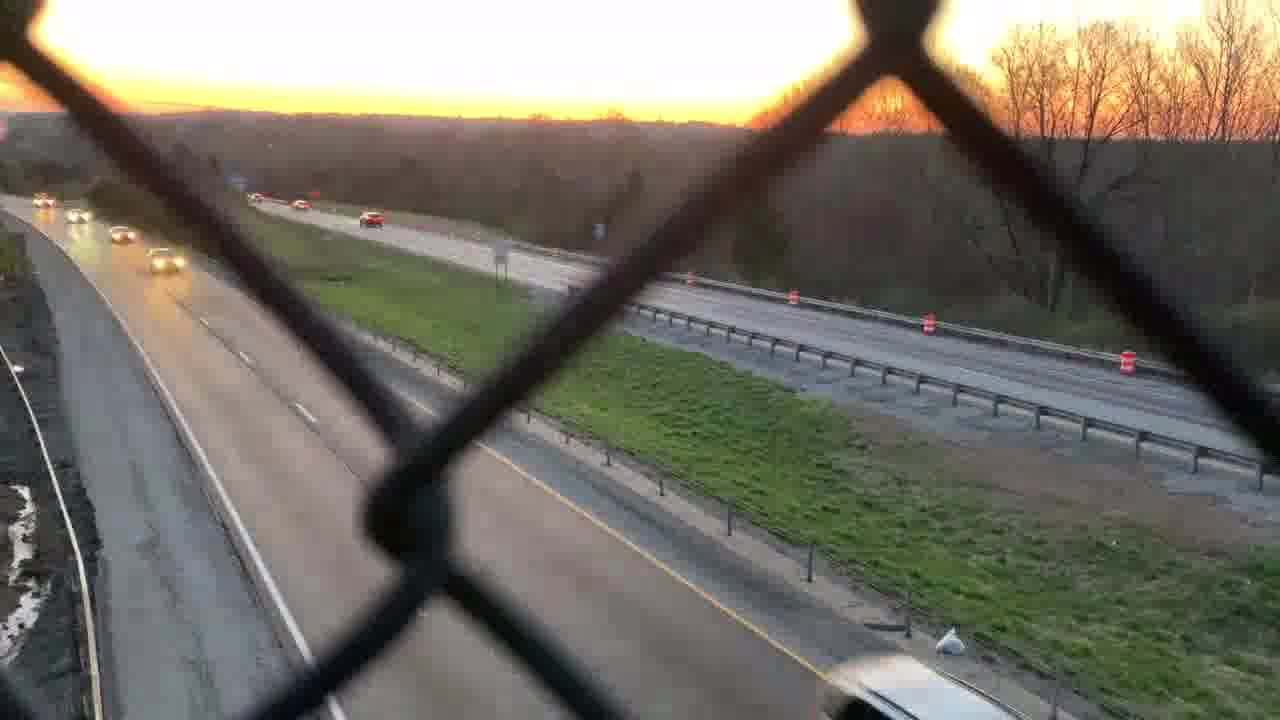largeCar: (818, 653, 1036, 720), (356, 208, 386, 230)
smallCar: (105, 221, 136, 246)
vehicle: (147, 241, 184, 274), (29, 186, 59, 211), (66, 204, 93, 223), (289, 194, 312, 211)
